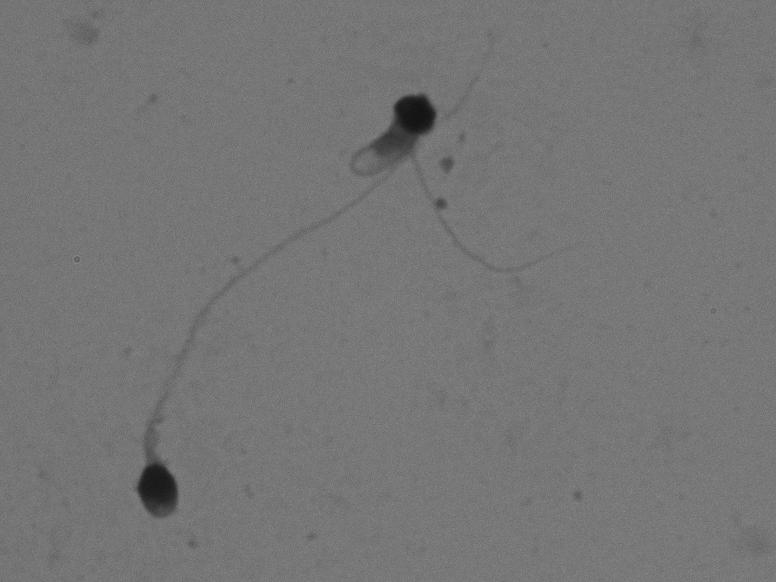Abnormal: (108, 172, 401, 532), (312, 77, 606, 286)
